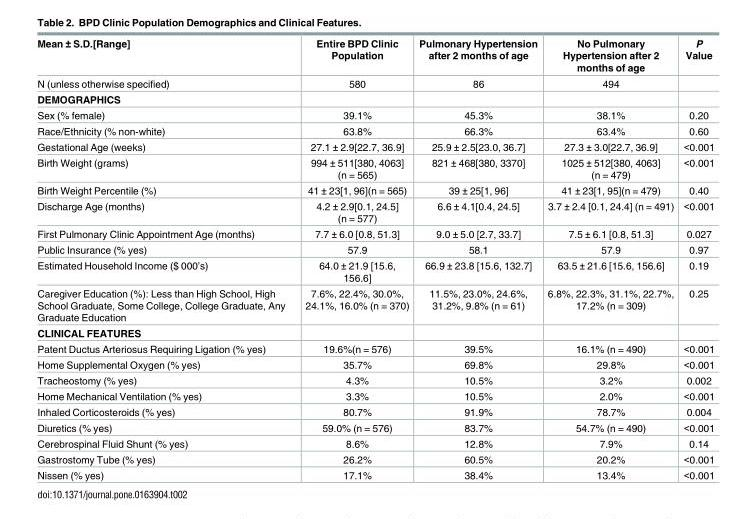table: (36, 37, 713, 480)
table column: (36, 37, 294, 480), (541, 37, 678, 480), (413, 37, 541, 480), (294, 37, 413, 480), (678, 37, 713, 480)
table column header: (36, 37, 713, 75)
table projected row header: (36, 91, 713, 107), (36, 325, 713, 340)
table row: (36, 285, 713, 325), (36, 37, 713, 75), (36, 154, 713, 182), (36, 197, 713, 225), (36, 257, 713, 285), (36, 225, 713, 242), (36, 387, 713, 404), (36, 75, 713, 91), (36, 91, 713, 107), (36, 107, 713, 123), (36, 138, 713, 154), (36, 340, 713, 356), (36, 356, 713, 372), (36, 419, 713, 435), (36, 435, 713, 451), (36, 123, 713, 138), (36, 182, 713, 197), (36, 242, 713, 257), (36, 325, 713, 340), (36, 372, 713, 387), (36, 404, 713, 419), (36, 451, 713, 466), (36, 466, 713, 480)
